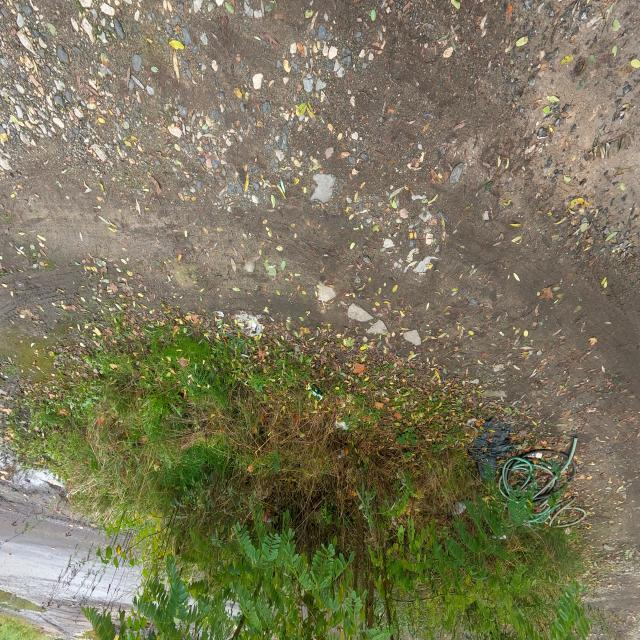rubbish: (54, 109, 141, 203), (123, 159, 178, 223), (376, 300, 407, 327), (316, 241, 335, 258), (173, 126, 188, 140), (288, 210, 306, 221), (365, 117, 377, 132), (291, 182, 302, 195), (96, 182, 116, 188), (241, 109, 249, 123), (67, 105, 77, 114), (133, 100, 148, 105)
